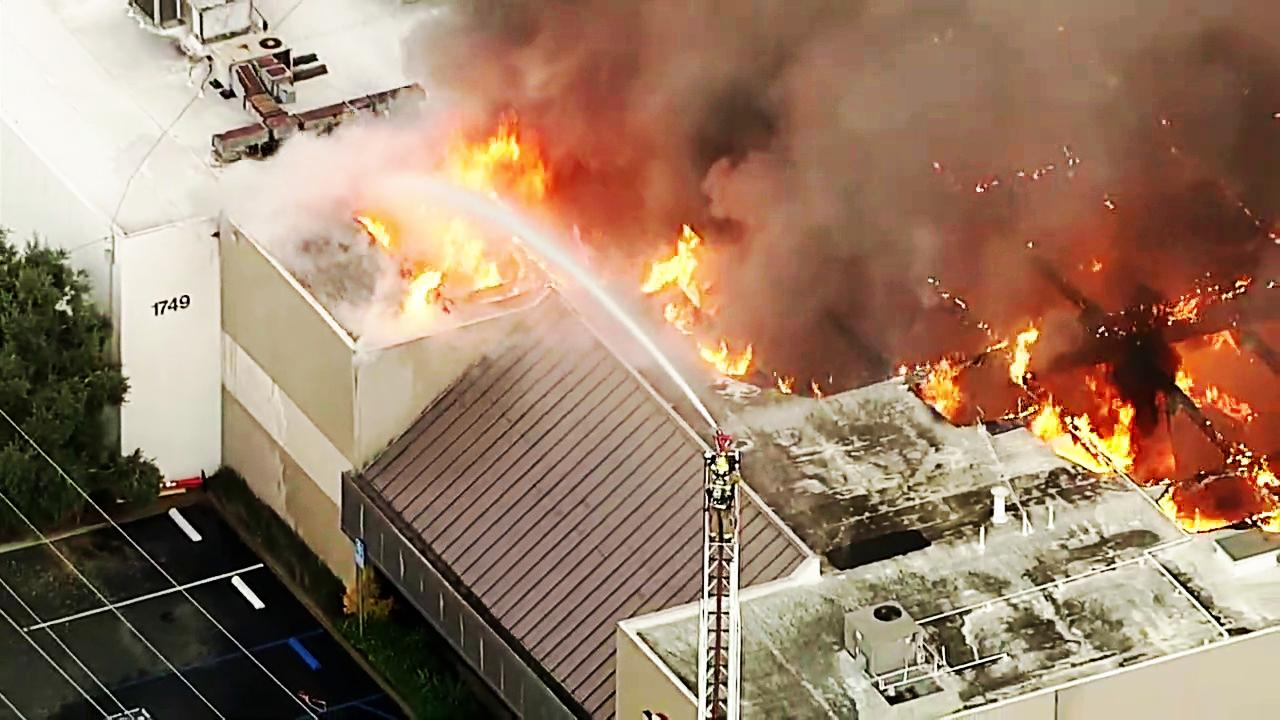fire: (350, 134, 546, 286)
